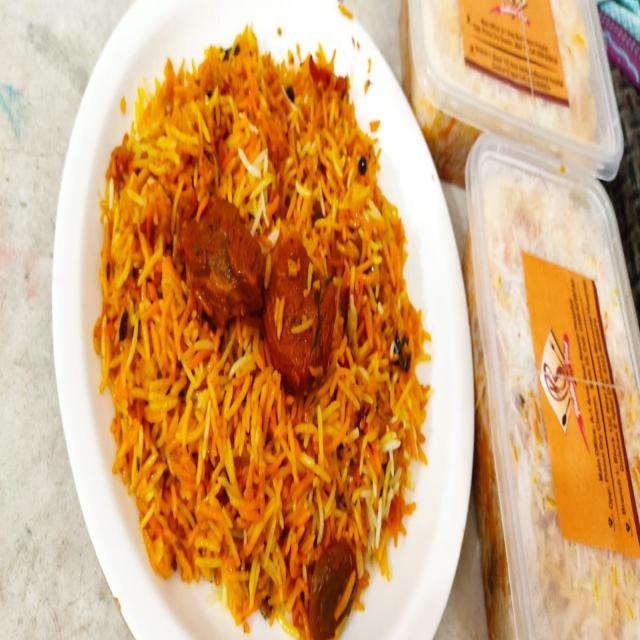Biryani: (106, 71, 426, 628)
